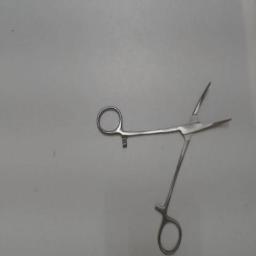Crile Artery Forceps: (94, 72, 236, 254)
